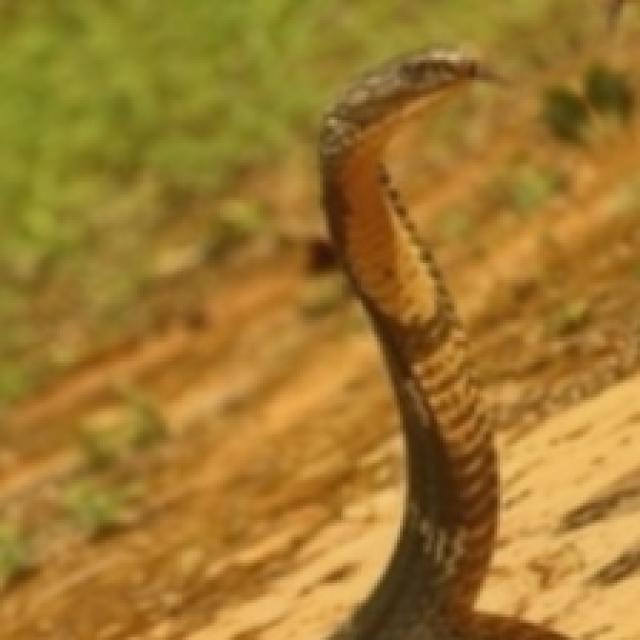king cobra: (320, 51, 569, 637), (563, 289, 637, 400)
